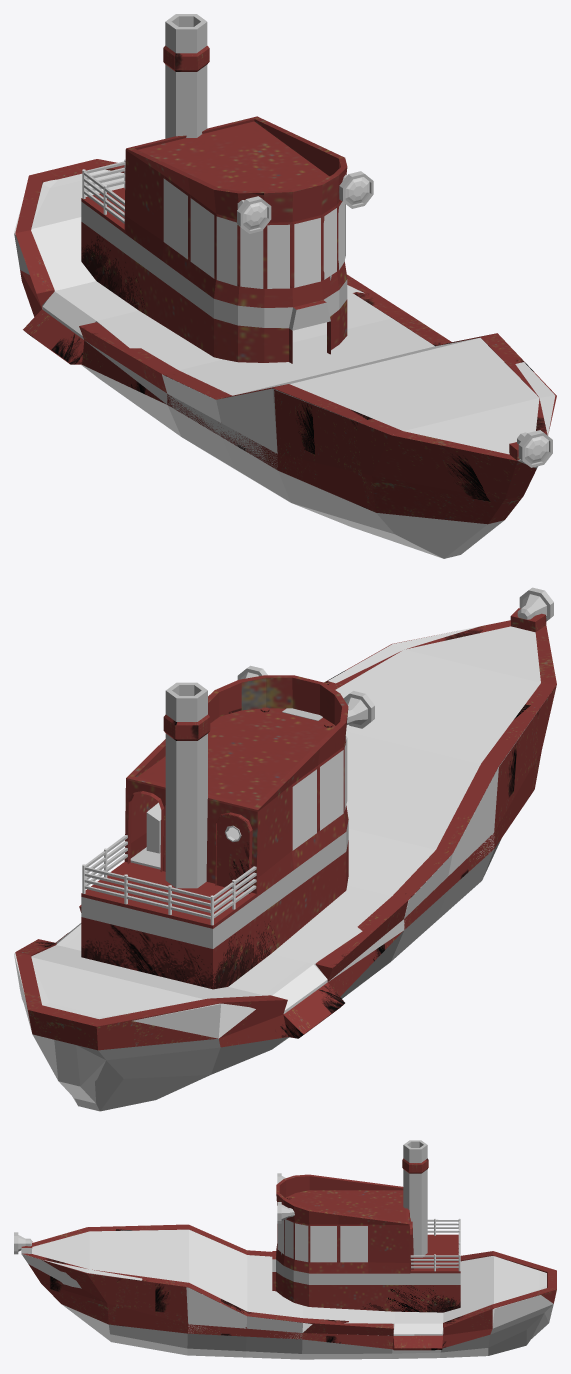
The model's file is boat_0.1.fbx.
3 renders of one model, top to bottom at view 1: azimuth 30°, elevation 25°; view 2: azimuth 150°, elevation 25°; view 3: azimuth 270°, elevation 25°, orthographic. The views are drawn at different scales.
Parts seen in each view (by area): view 1: body, body-coll, cabin-col, window_inside, exhaust_pipe, Cylinder, back_railing, Cylinder.007; view 2: body-coll, cabin-col, body, exhaust_pipe, back_railing, window_inside, top_door-col, Cylinder, Cylinder.007, control_panel.003, Cylinder.008; view 3: body, body-coll, cabin-col, window_inside, exhaust_pipe, back_railing, Cylinder.
Boxes of the visible parts, x1=… form: body: x1=15, y1=159, x2=556, y2=558; body-coll: x1=14, y1=169, x2=555, y2=469; cabin-col: x1=81, y1=116, x2=347, y2=363; window_inside: x1=163, y1=178, x2=345, y2=288; exhaust_pipe: x1=163, y1=14, x2=209, y2=138; Cylinder: x1=237, y1=171, x2=373, y2=233; back_railing: x1=84, y1=161, x2=125, y2=223; Cylinder.007: x1=517, y1=430, x2=552, y2=467; body-coll: x1=14, y1=620, x2=540, y2=1103; cabin-col: x1=81, y1=675, x2=348, y2=989; body: x1=15, y1=608, x2=556, y2=1111; exhaust_pipe: x1=163, y1=682, x2=210, y2=888; back_railing: x1=84, y1=835, x2=256, y2=919; window_inside: x1=292, y1=736, x2=347, y2=850; top_door-col: x1=215, y1=813, x2=251, y2=893; Cylinder: x1=237, y1=665, x2=374, y2=728; Cylinder.007: x1=517, y1=587, x2=553, y2=621; control_panel.003: x1=146, y1=802, x2=161, y2=853; Cylinder.008: x1=82, y1=848, x2=235, y2=925; body: x1=21, y1=1224, x2=556, y2=1359; body-coll: x1=21, y1=1229, x2=553, y2=1338; cabin-col: x1=272, y1=1174, x2=460, y2=1312; window_inside: x1=277, y1=1219, x2=367, y2=1262; exhaust_pipe: x1=402, y1=1140, x2=428, y2=1255; back_railing: x1=410, y1=1219, x2=460, y2=1268; Cylinder: x1=277, y1=1173, x2=294, y2=1223.
Size of the model in its own units: 970 by 1190 by 2875.
